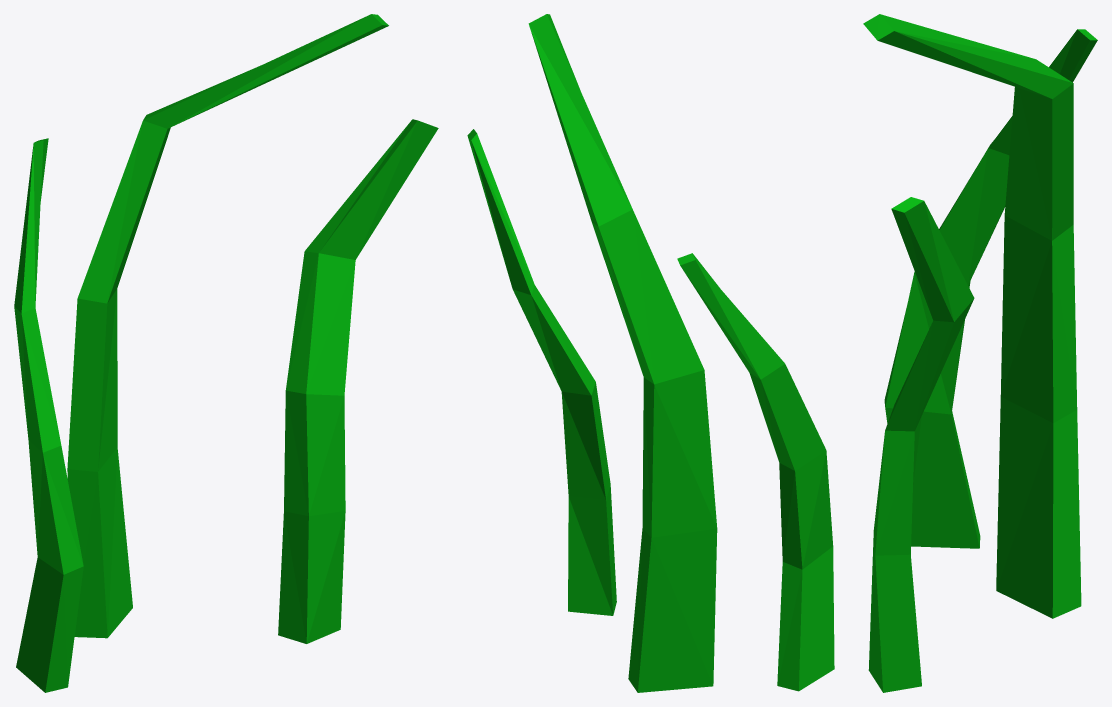
Rendered from grass-13.glb.
3 views of the same model, side by side, from view 1: azimuth 30°, elevation 25°; view 2: azimuth 150°, elevation 25°; view 3: azimuth 270°, elevation 25° (orthographic). The views are drawn at different scales.
Parts seen in each view (by area): view 1: Low Poly Grass; view 2: Low Poly Grass; view 3: Low Poly Grass.
Part boxes in pixels (left/top/right/bottom): Low Poly Grass: left=14, top=14, right=438, bottom=692; Low Poly Grass: left=467, top=14, right=834, bottom=692; Low Poly Grass: left=863, top=14, right=1097, bottom=692.
Size of the model in its own units: 0.153 by 0.2292 by 0.0702.
